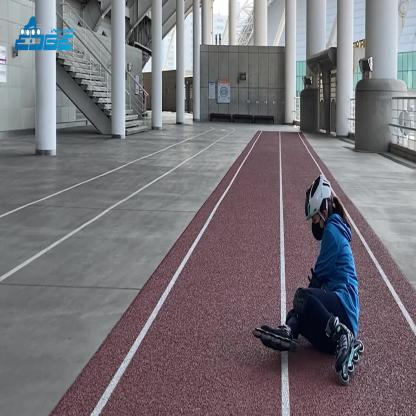Fall_Down: (258, 184, 362, 372)
